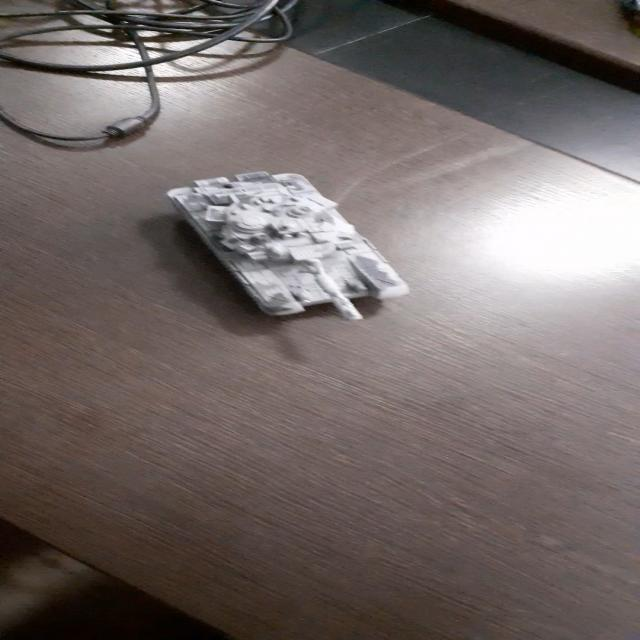tank: (164, 172, 411, 318)
